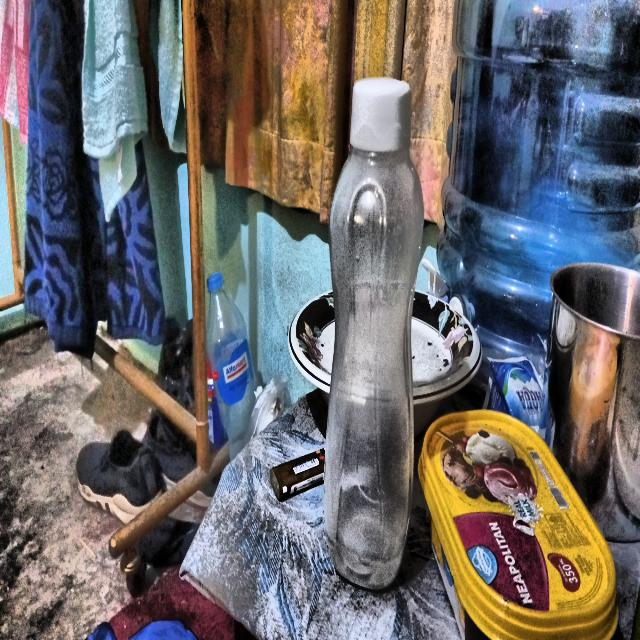Bottle: (321, 73, 425, 591), (199, 258, 261, 459)
